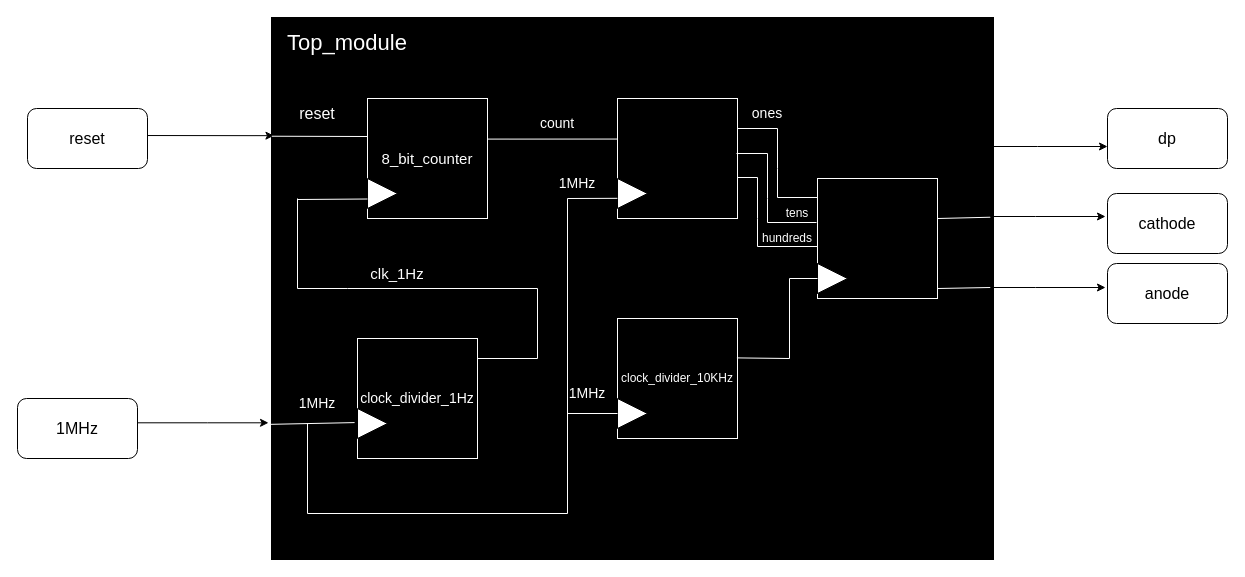
This 1245x577 diagram has some shape labels left out. Each missing label, with the box of its shape:
binary_to_BCD: (616, 98, 738, 218)
seven_segment_ controller: (816, 178, 938, 298)
